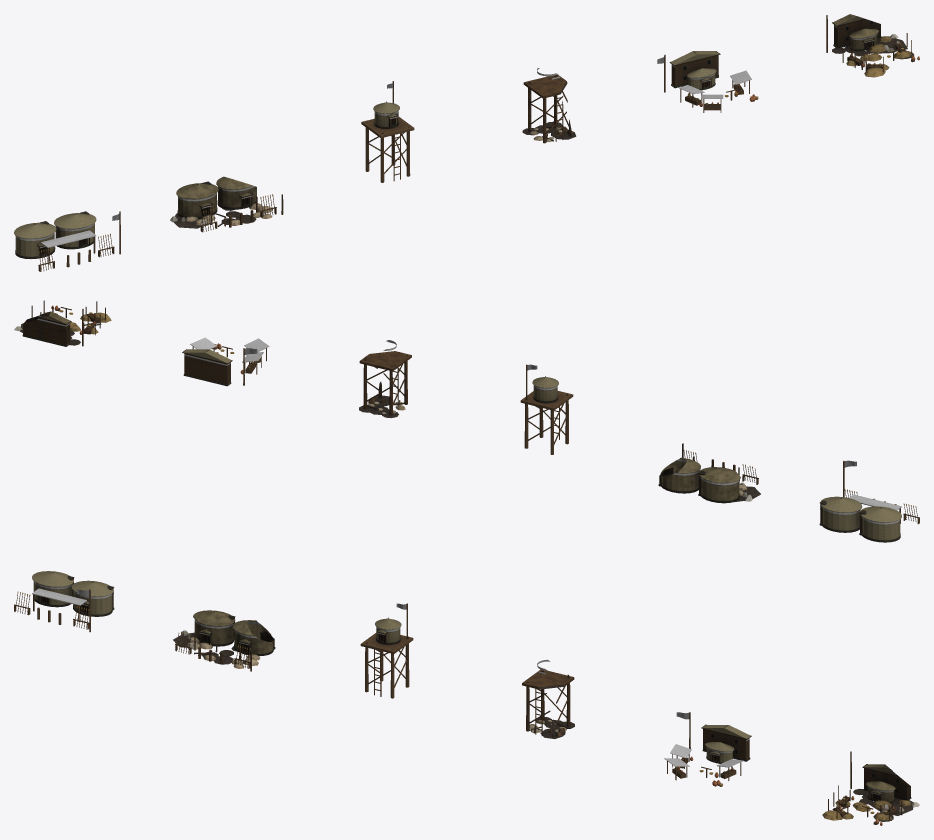
File: rts-bronze-steppe.glb
The picture shows the model from 3 angles, top to bottom: view 1: azimuth 30°, elevation 25°; view 2: azimuth 150°, elevation 25°; view 3: azimuth 330°, elevation 25°; orthographic projection.
Parts seen in each view (by area): view 1: LOD0.001, LOD0, LOD0.005, LOD0.004, LOD0.002, LOD0.003; view 2: LOD0, LOD0.001, LOD0.004, LOD0.003, LOD0.005, LOD0.002; view 3: LOD0.001, LOD0, LOD0.005, LOD0.004, LOD0.002, LOD0.003.
Part boxes in pixels (x1,y1,x2,y2): LOD0.001: (170,176,283,232); LOD0: (14,211,120,271); LOD0.005: (826,14,919,77); LOD0.004: (657,51,758,112); LOD0.002: (361,81,414,182); LOD0.003: (522,68,576,143); LOD0: (819,460,919,542); LOD0.001: (658,443,760,503); LOD0.004: (182,337,269,386); LOD0.003: (359,340,411,418); LOD0.005: (14,300,111,346); LOD0.002: (520,364,573,454); LOD0.001: (173,610,275,671); LOD0: (14,571,114,632); LOD0.005: (822,751,919,825); LOD0.004: (664,712,751,786); LOD0.002: (360,603,413,698); LOD0.003: (522,659,574,738).
Size of what is drawn, in the model's own units: 16.4 by 1.48 by 1.37.
Materials: 2 (2 with a texture image).
